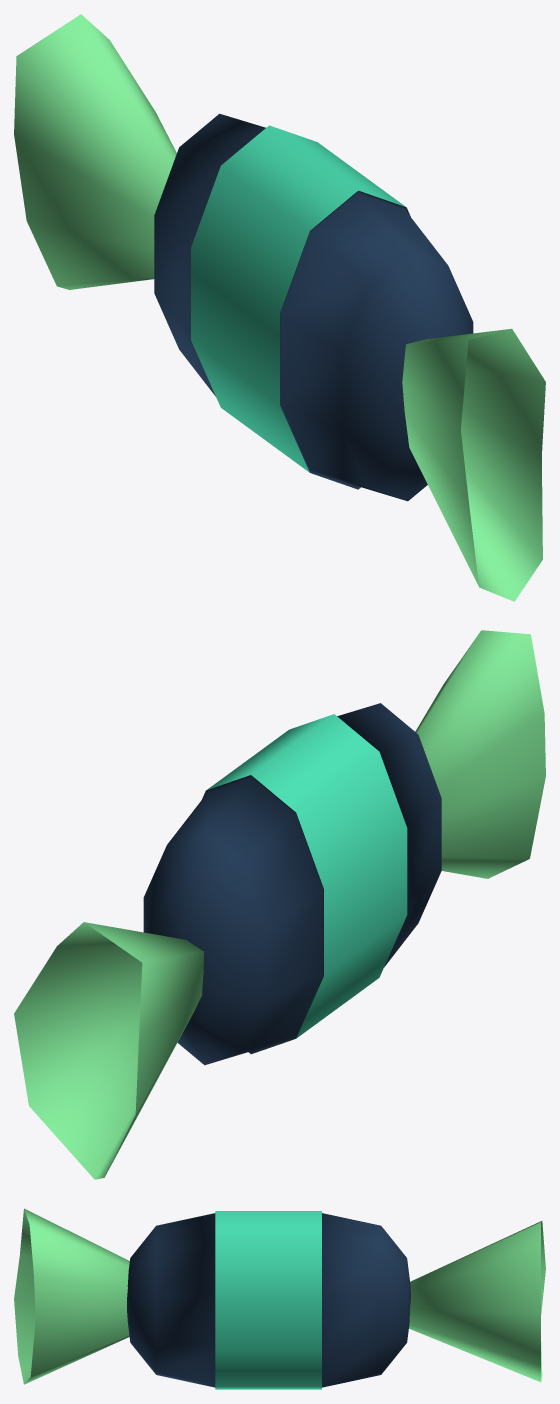
The model's file is candy.fbx.
3 renders of one model, top to bottom at view 1: azimuth 30°, elevation 25°; view 2: azimuth 150°, elevation 25°; view 3: azimuth 270°, elevation 25°, orthographic. The views are drawn at different scales.
Parts seen in each view (by area): view 1: Cone.003; view 2: Cone.003; view 3: Cone.003.
Boxes of the visible parts, x1,y1,x2,y2 form: Cone.003: (14,14,545,601); Cone.003: (14,630,545,1179); Cone.003: (14,1208,545,1389).
Bounding box in the file's own units: 42.98 × 78.54 × 212.
